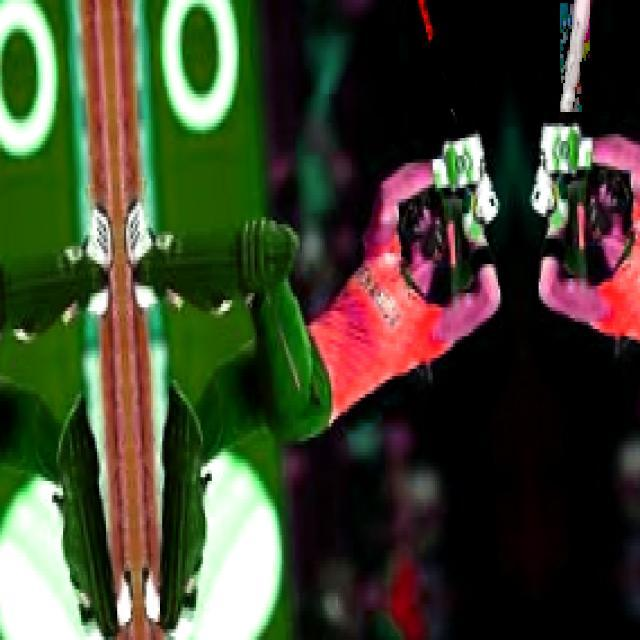bat: (420, 0, 476, 136)
